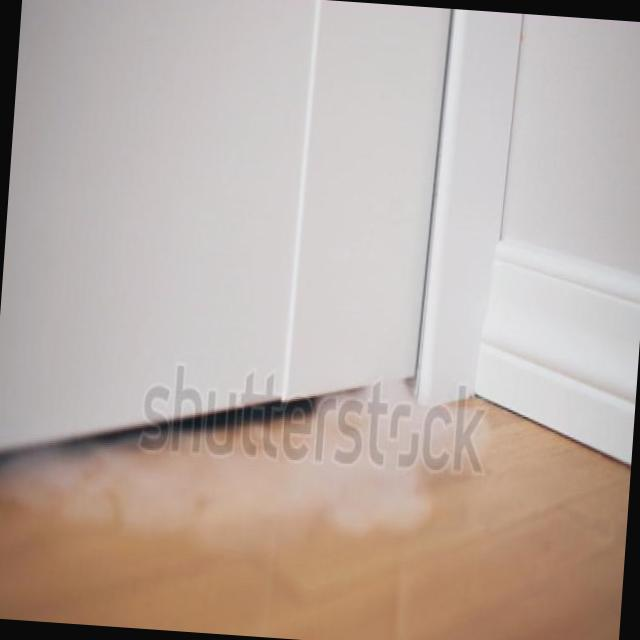smoke: (0, 365, 482, 556)
